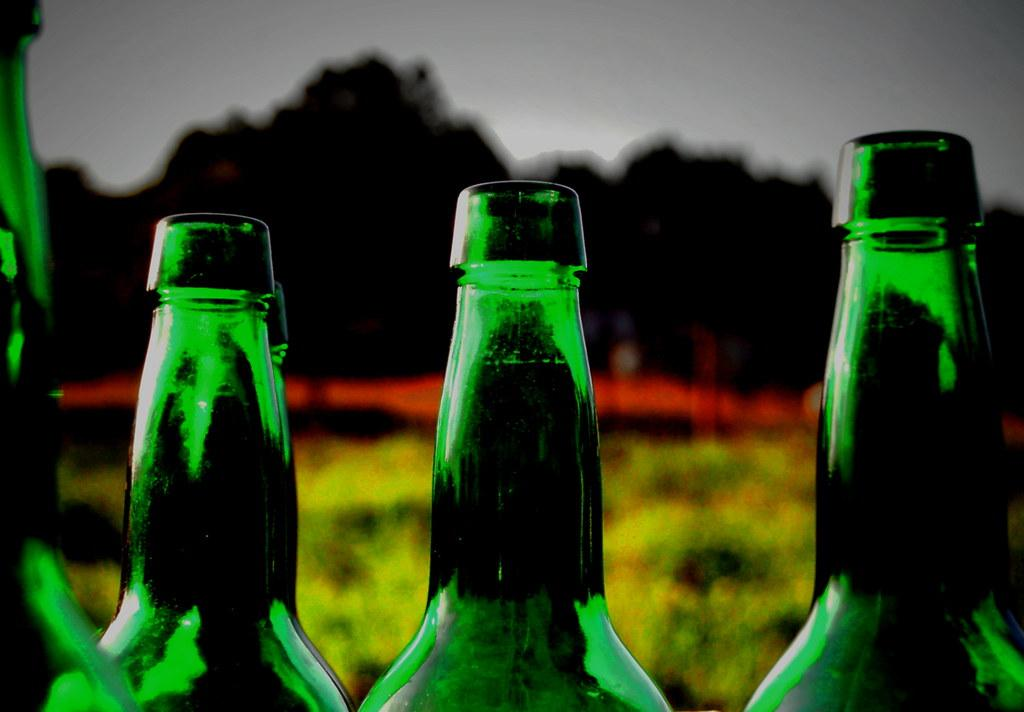bottle: (357, 179, 676, 711), (742, 129, 1023, 711), (46, 212, 360, 711)
